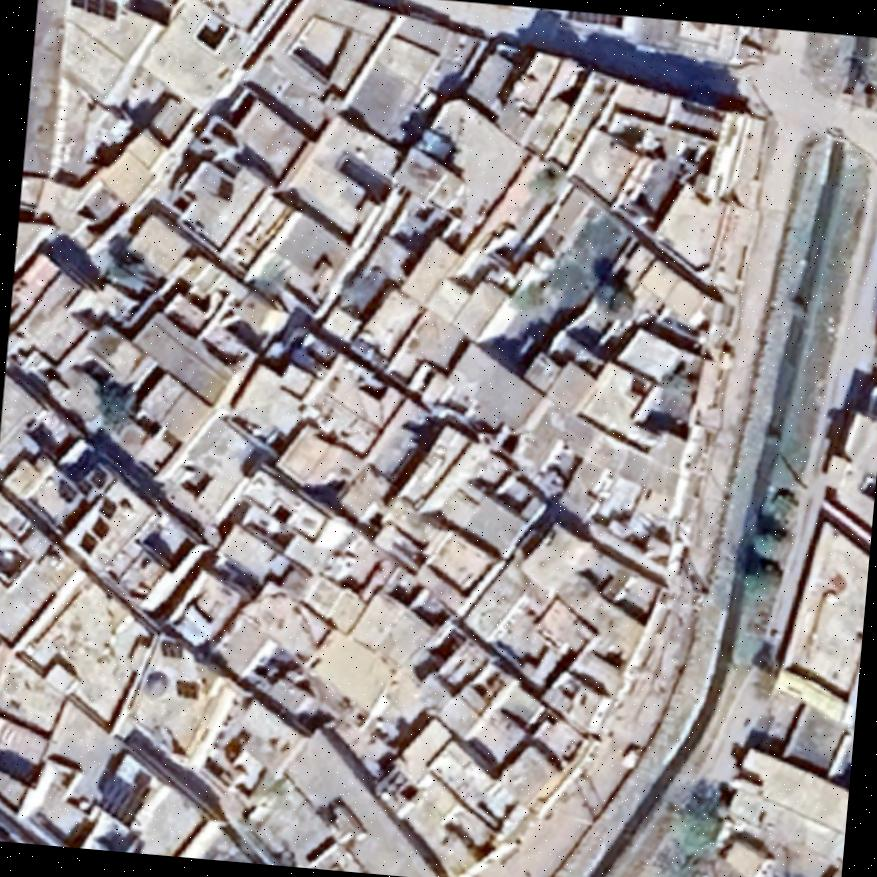Solarpanel: (88, 764, 151, 829), (66, 0, 123, 24), (560, 9, 624, 29)
